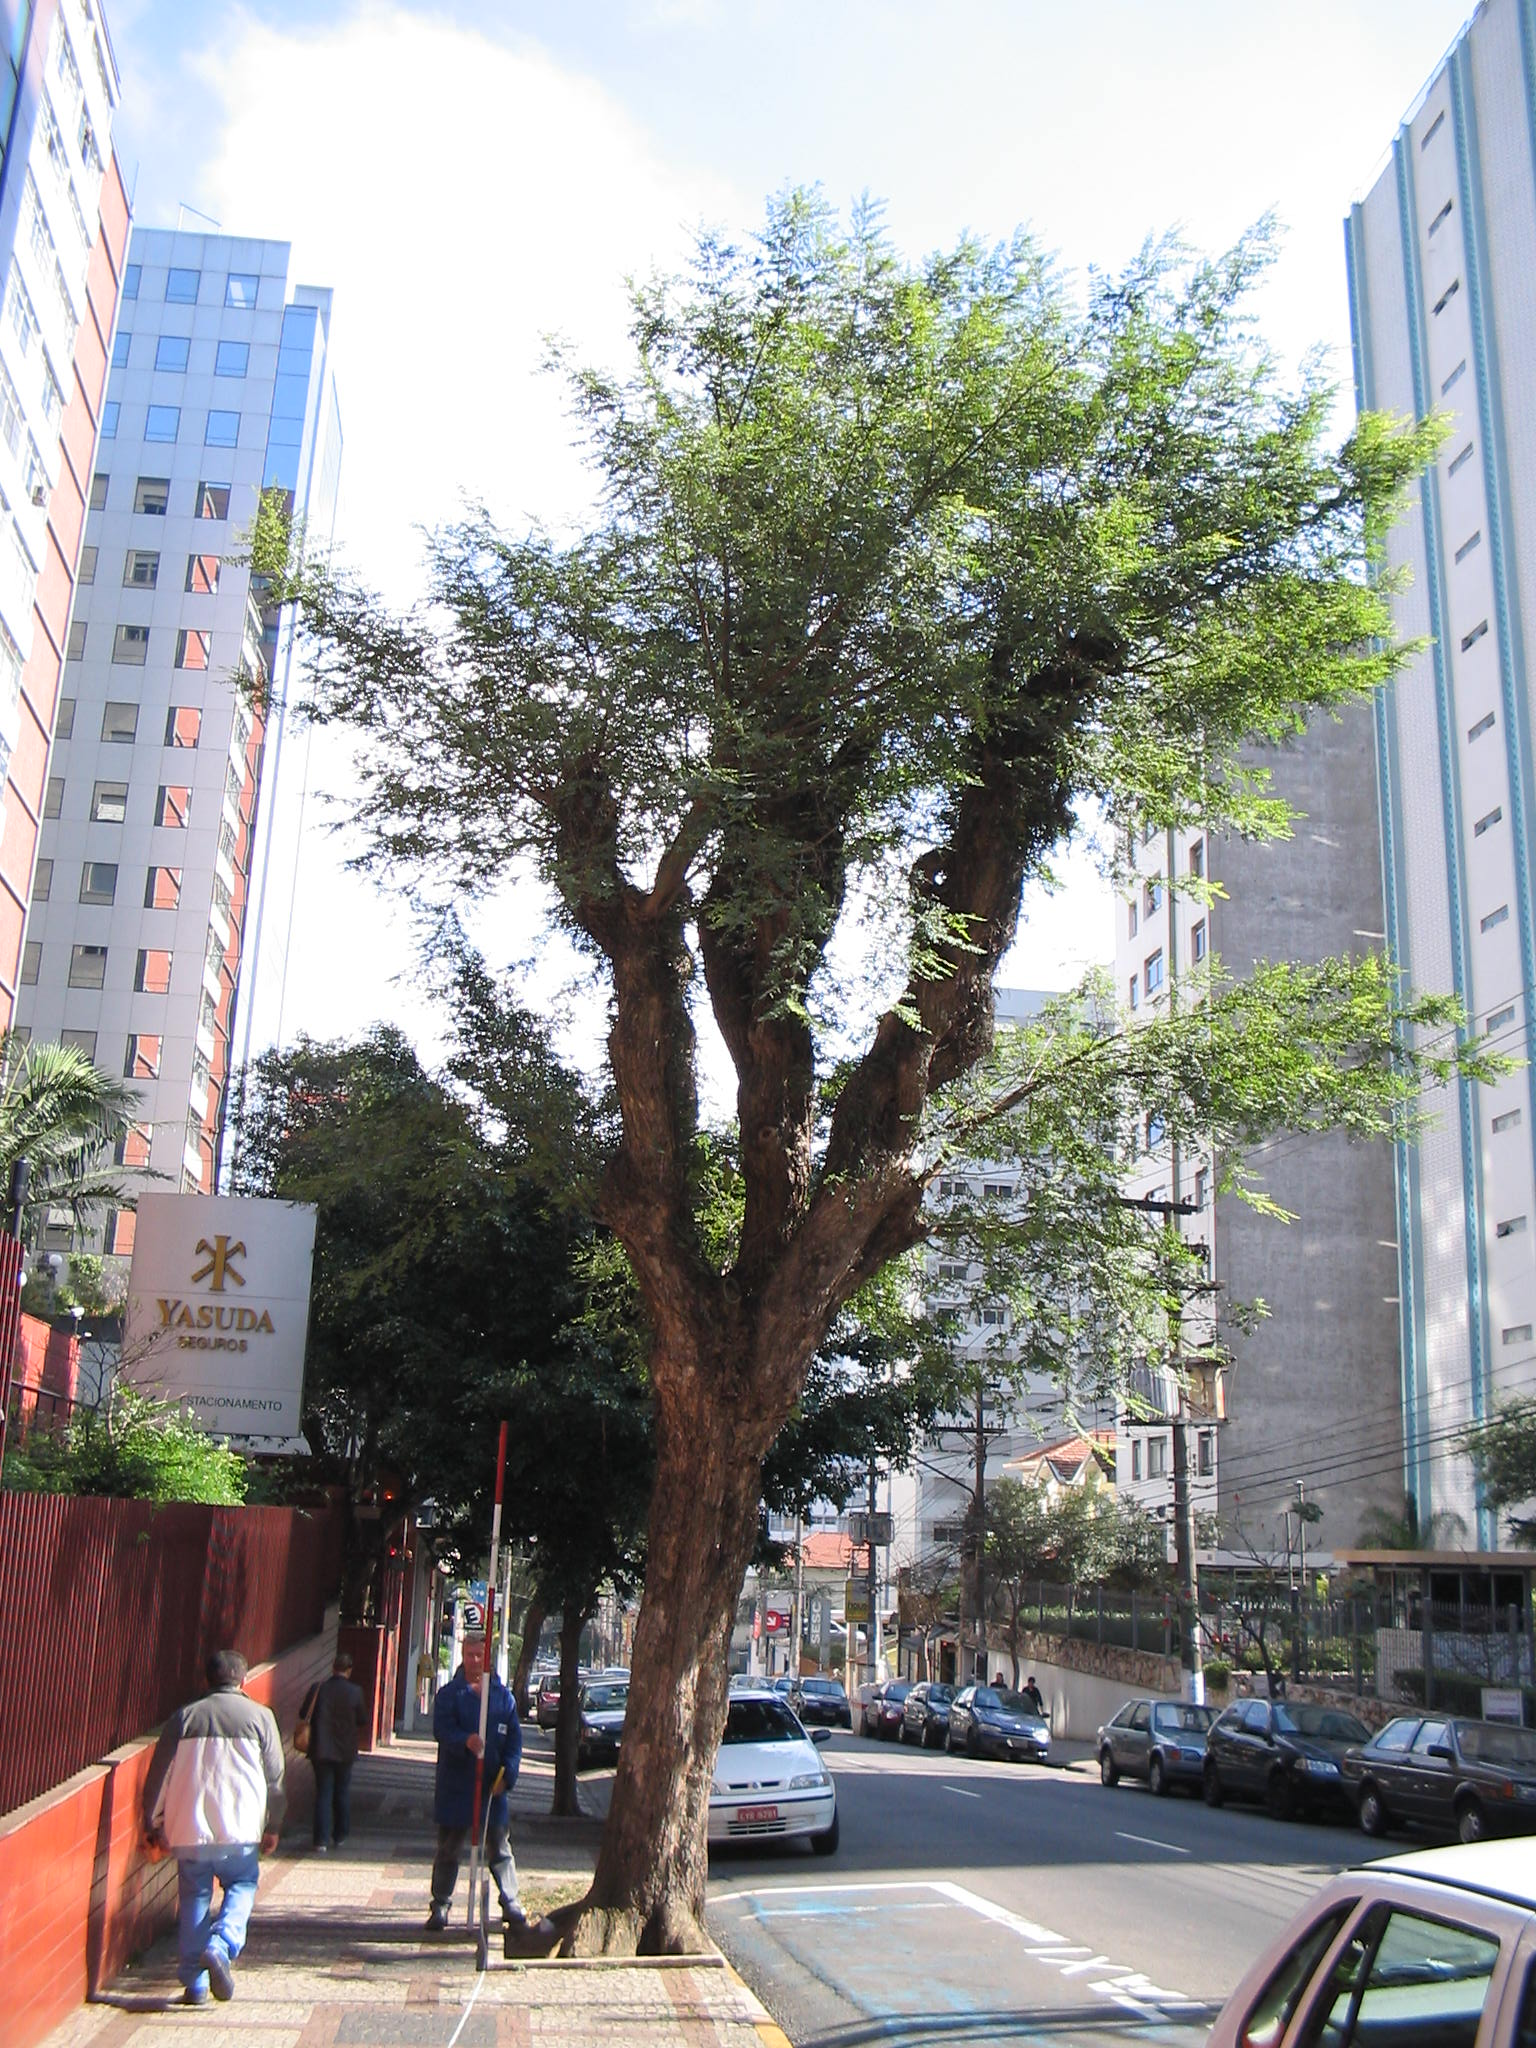crown: (232, 179, 1533, 1376)
stem: (523, 1367, 816, 1966)
stick: (458, 1424, 523, 1940)
tree: (224, 174, 1534, 1966)
